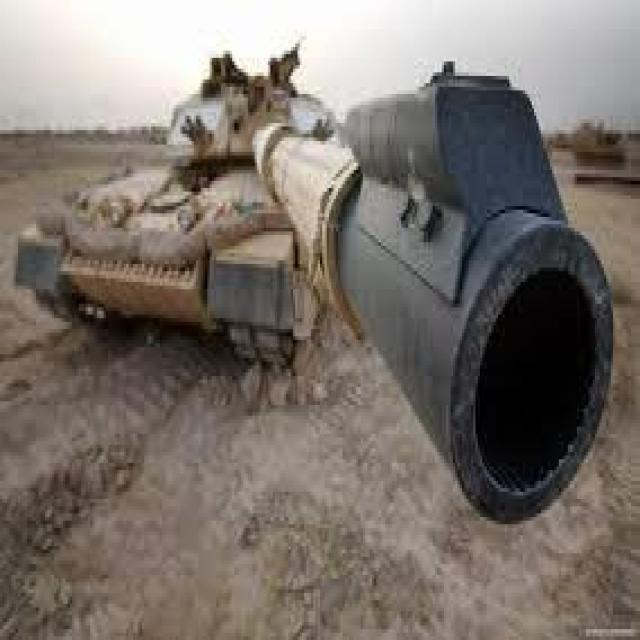Tanks: (20, 47, 622, 521)
